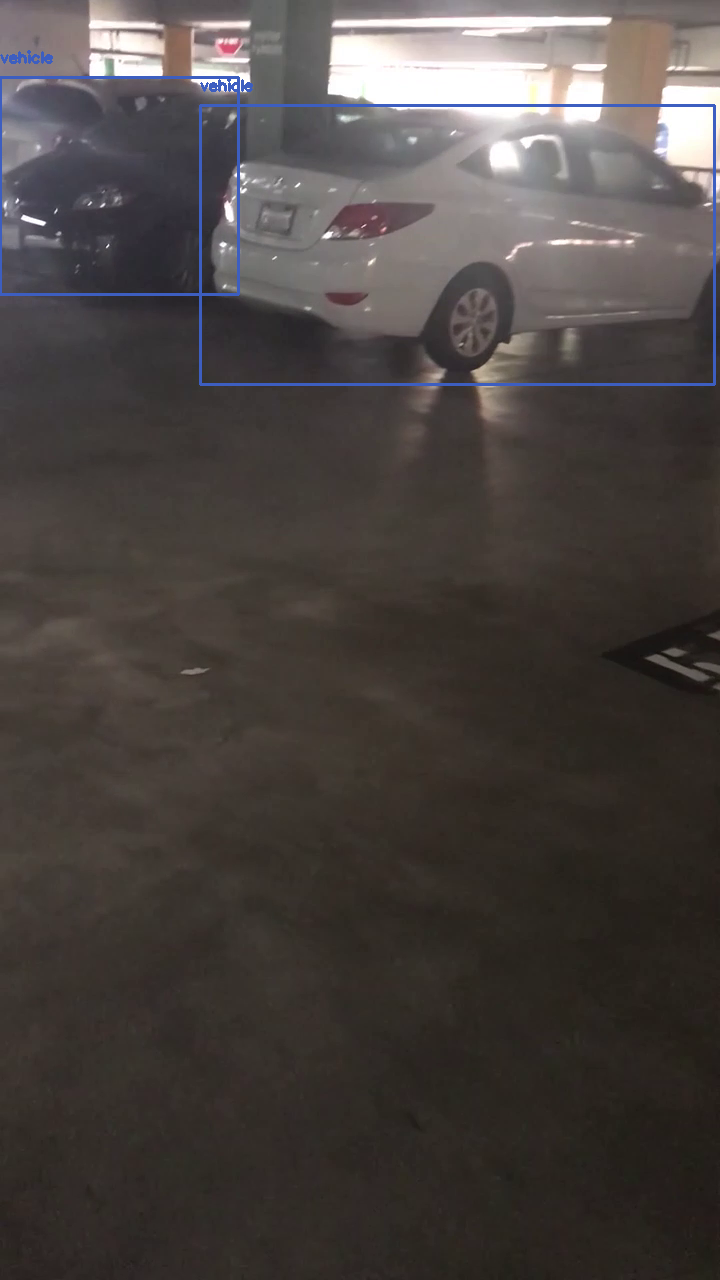vehicle: (200, 105, 714, 384), (0, 77, 238, 294)
